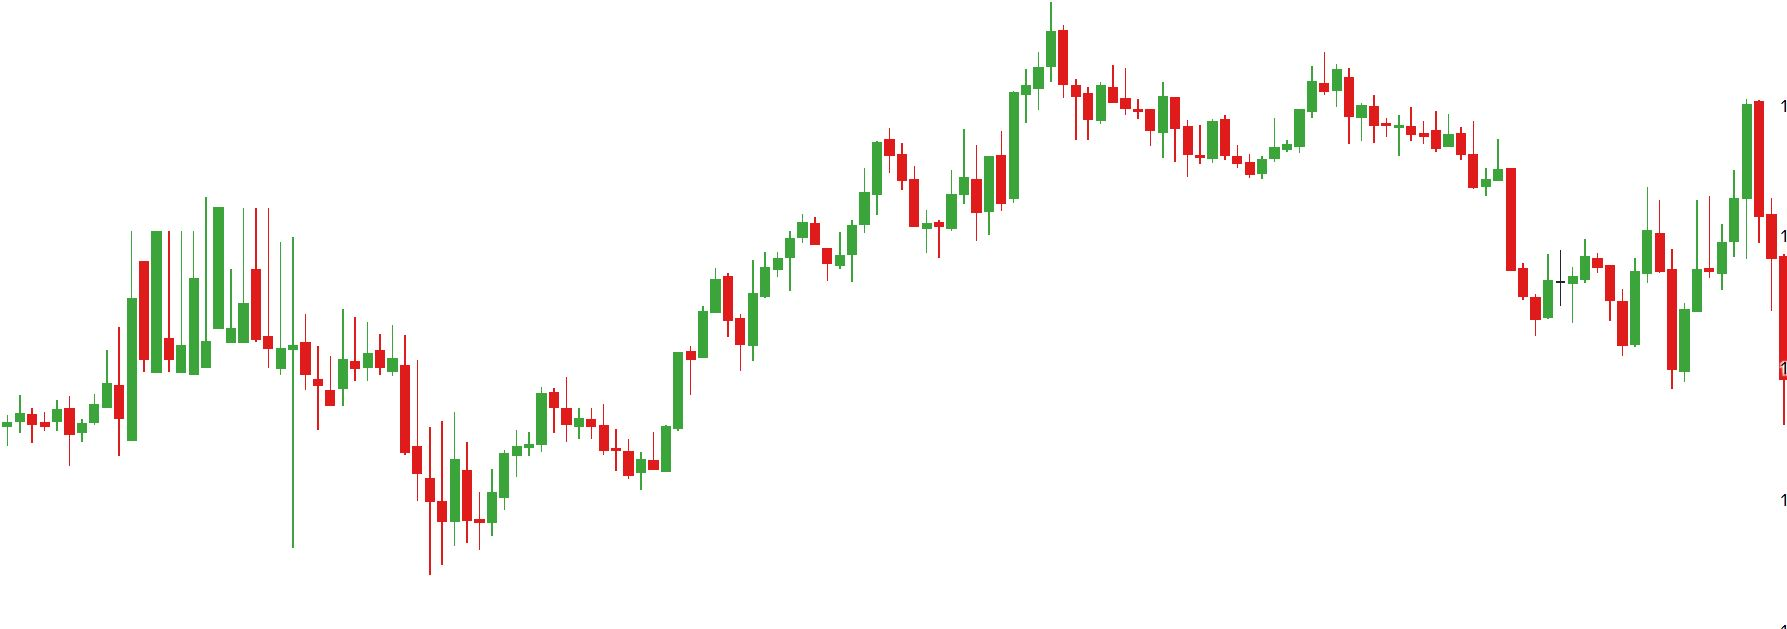buy: (1615, 273, 1690, 390)
sell: (1640, 99, 1764, 258), (1157, 50, 1331, 142)
